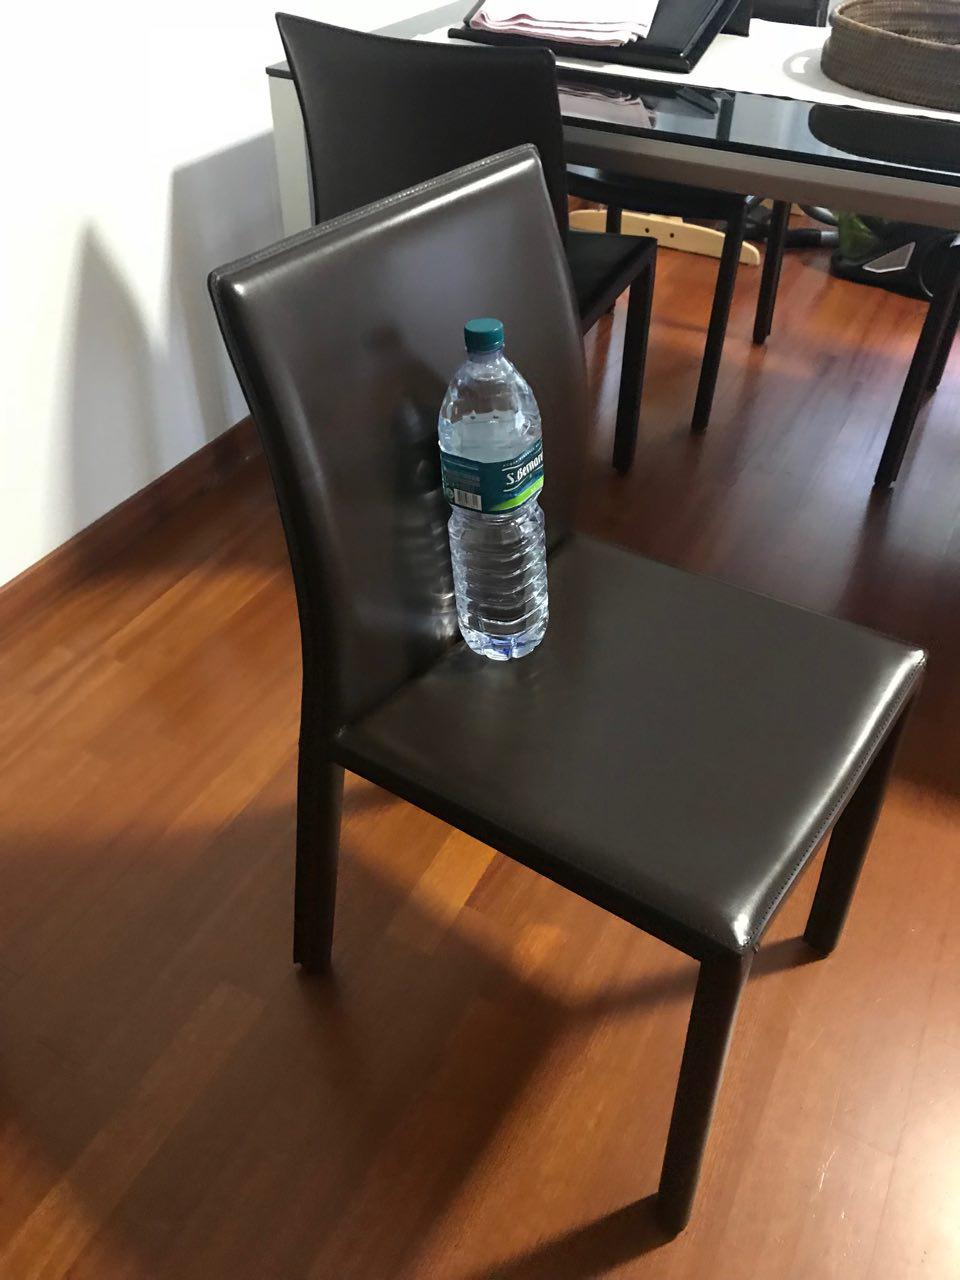san_bernardo: (437, 317, 550, 661)
